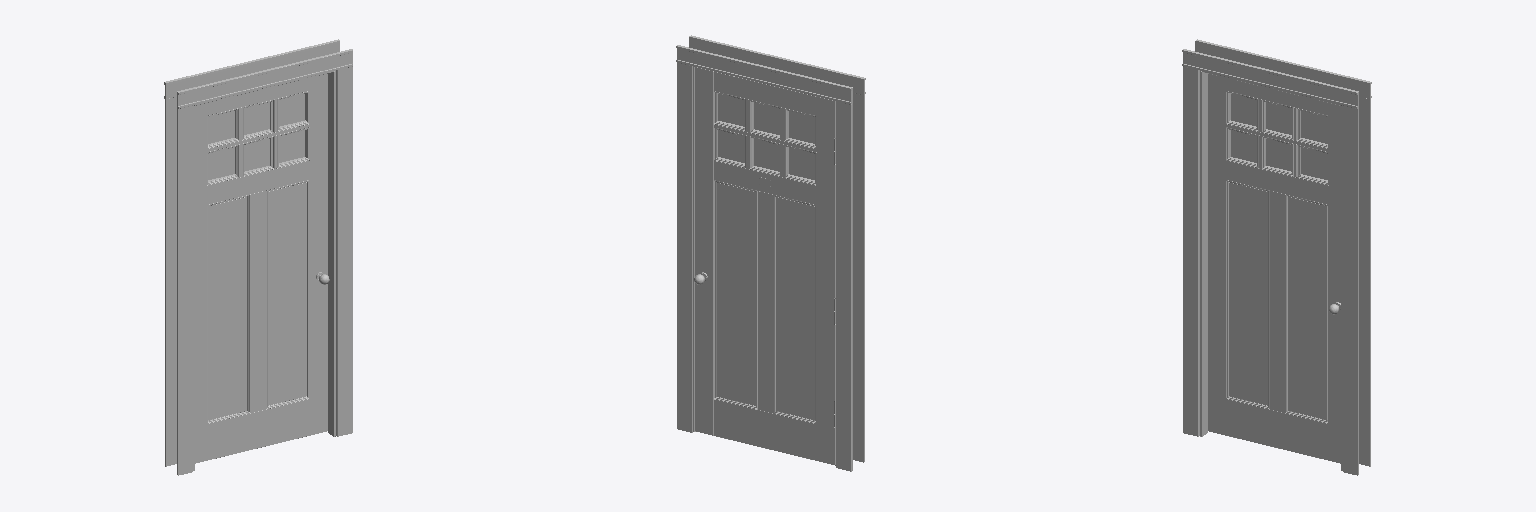
Rendered from Shaker door 1.obj.
3 views of the same model, side by side, from view 1: azimuth 30°, elevation 25°; view 2: azimuth 150°, elevation 25°; view 3: azimuth 330°, elevation 25° (orthographic).
Parts seen in each view (by area): view 1: Shaker_door_2; view 2: Shaker_door_2; view 3: Shaker_door_2.
Part boxes in pixels (x1,y1,x2,y2): Shaker_door_2: (164, 39, 352, 475); Shaker_door_2: (676, 35, 865, 471); Shaker_door_2: (1182, 39, 1371, 475).
Size of the model in its own units: 44.31 by 92.93 by 8.93.